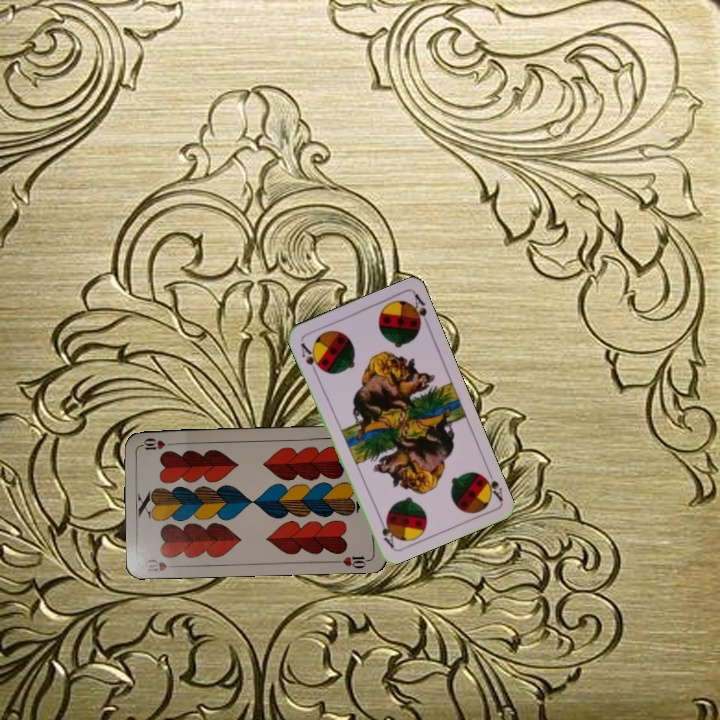H10: (141, 555, 182, 574)
SA: (476, 465, 505, 504), (297, 339, 324, 376)
